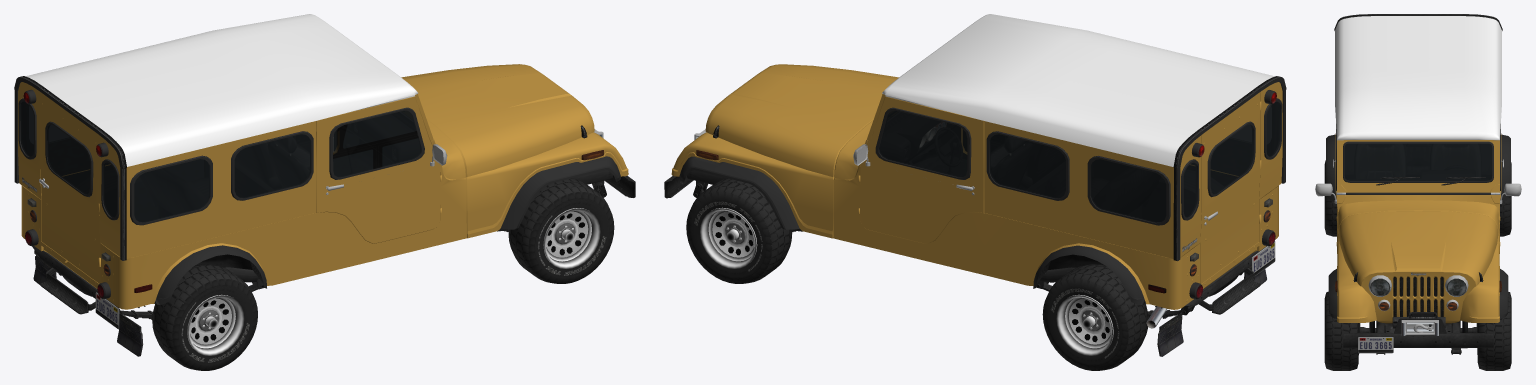
Rendered from eugene-mk6-65-suv.glb.
3 views of the same model, side by side, from view 1: azimuth 30°, elevation 25°; view 2: azimuth 150°, elevation 25°; view 3: azimuth 270°, elevation 25° (orthographic). The views are drawn at different scales.
Parts seen in each view (by area): view 1: EugenMK665_Bottom_UCB_BOTTOM_0, EugenMK665_Body_EugenMK665_bodymat_0, EugenMK665_interior_UCB_Interiors_2_0, EugenMK665_Hood_EugenMK665_bodymat_0, EugenMK665_Body_Glass_UCB_Lights_and_Glass_Transperent_0, EugenMK665_WheelStock_RR_RO1a_Tire_0, EugenMK665_WheelStock_FR_RO1a_Tire_0, EugenMK665_Door_trunk_EugenMK665_bodymat_0, EugenMK665_Glass_Passanger_UCB_Lights_and_Glass_Transperent_, EugenMK665_trunkdoor_glass_UCB_Lights_and_Glass_Transperent_, EugenMK665_Bumper_Rear_UCB_BOTTOM_0, EugenMK665_Door_trunk_inner_UCB_BOTTOM_0 (+2 smaller); view 2: EugenMK665_Bottom_UCB_BOTTOM_0, EugenMK665_Body_EugenMK665_bodymat_0, EugenMK665_Hood_EugenMK665_bodymat_0, EugenMK665_interior_UCB_Interiors_2_0, EugenMK665_Body_Glass_UCB_Lights_and_Glass_Transperent_0, EugenMK665_WheelStock_RL_RO1a_Tire_0, EugenMK665_WheelStock_FL_RO1a_Tire_0, EugenMK665_Door_trunk_EugenMK665_bodymat_0, EugenMK665_Glass_Driver_UCB_Lights_and_Glass_Transperent_0, EugenMK665_trunkdoor_glass_UCB_Lights_and_Glass_Transperent_, EugenMK665_Bumper_Rear_UCB_BOTTOM_0, EugenMK665_Door_trunk_inner_UCB_BOTTOM_0 (+1 smaller); view 3: EugenMK665_Bottom_UCB_BOTTOM_0, EugenMK665_Body_EugenMK665_bodymat_0, EugenMK665_Hood_EugenMK665_bodymat_0, EugenMK665_Windshield_UCB_Lights_and_Glass_Transperent_0, EugenMK665_interior_UCB_Interiors_2_0, EugenMK665_Bumper_front_UCB_BOTTOM_0, EugenMK665_WheelStock_FR_RO1a_Tire_0, EugenMK665_WheelStock_FL_RO1a_Tire_0, EugenMK665_Numberplate_front_Numberplates_Misk_U_0, EugenMK665_Headlights_glass_UCB_Lights_and_Glass_Transperent, EugenMK665_Headlights_UCB_Lights_and_Glass_0, EugenMK665_WheelStock_RR_RO1a_Tire_0 (+2 smaller).
Boxes of the visible parts, x1,y1,x2,y2 form: EugenMK665_Bottom_UCB_BOTTOM_0: [14, 14, 620, 356]; EugenMK665_Body_EugenMK665_bodymat_0: [18, 82, 628, 309]; EugenMK665_interior_UCB_Interiors_2_0: [22, 102, 424, 221]; EugenMK665_Hood_EugenMK665_bodymat_0: [401, 64, 594, 177]; EugenMK665_Body_Glass_UCB_Lights_and_Glass_Transperent_0: [20, 101, 310, 222]; EugenMK665_WheelStock_RR_RO1a_Tire_0: [152, 264, 257, 370]; EugenMK665_WheelStock_FR_RO1a_Tire_0: [508, 178, 614, 283]; EugenMK665_Door_trunk_EugenMK665_bodymat_0: [40, 92, 100, 283]; EugenMK665_Glass_Passanger_UCB_Lights_and_Glass_Transperent_: [333, 110, 421, 177]; EugenMK665_trunkdoor_glass_UCB_Lights_and_Glass_Transperent_: [47, 124, 90, 194]; EugenMK665_Bumper_Rear_UCB_BOTTOM_0: [32, 246, 116, 314]; EugenMK665_Door_trunk_inner_UCB_BOTTOM_0: [39, 121, 93, 197]; EugenMK665_Bottom_UCB_BOTTOM_0: [679, 14, 1286, 356]; EugenMK665_Body_EugenMK665_bodymat_0: [671, 82, 1282, 309]; EugenMK665_Hood_EugenMK665_bodymat_0: [705, 64, 898, 177]; EugenMK665_interior_UCB_Interiors_2_0: [876, 102, 1278, 221]; EugenMK665_Body_Glass_UCB_Lights_and_Glass_Transperent_0: [989, 101, 1280, 222]; EugenMK665_WheelStock_RL_RO1a_Tire_0: [1042, 264, 1148, 370]; EugenMK665_WheelStock_FL_RO1a_Tire_0: [686, 178, 792, 283]; EugenMK665_Door_trunk_EugenMK665_bodymat_0: [1200, 92, 1260, 283]; EugenMK665_Glass_Driver_UCB_Lights_and_Glass_Transperent_0: [879, 110, 967, 177]; EugenMK665_trunkdoor_glass_UCB_Lights_and_Glass_Transperent_: [1210, 124, 1253, 194]; EugenMK665_Bumper_Rear_UCB_BOTTOM_0: [1184, 246, 1266, 314]; EugenMK665_Door_trunk_inner_UCB_BOTTOM_0: [1204, 121, 1255, 225]; EugenMK665_Bottom_UCB_BOTTOM_0: [1315, 14, 1521, 332]; EugenMK665_Body_EugenMK665_bodymat_0: [1335, 134, 1501, 323]; EugenMK665_Hood_EugenMK665_bodymat_0: [1338, 211, 1498, 286]; EugenMK665_Windshield_UCB_Lights_and_Glass_Transperent_0: [1344, 143, 1492, 180]; EugenMK665_interior_UCB_Interiors_2_0: [1336, 144, 1500, 192]; EugenMK665_Bumper_front_UCB_BOTTOM_0: [1343, 312, 1493, 347]; EugenMK665_WheelStock_FR_RO1a_Tire_0: [1324, 291, 1359, 370]; EugenMK665_WheelStock_FL_RO1a_Tire_0: [1477, 292, 1511, 370]; EugenMK665_Numberplate_front_Numberplates_Misk_U_0: [1358, 337, 1393, 353]; EugenMK665_Headlights_glass_UCB_Lights_and_Glass_Transperent: [1370, 278, 1466, 296]; EugenMK665_Headlights_UCB_Lights_and_Glass_0: [1371, 279, 1465, 295]; EugenMK665_WheelStock_RR_RO1a_Tire_0: [1324, 160, 1336, 236].
Size of the model in its own units: 3.98 by 1.72 by 1.73.
8 materials, 7 textured.
